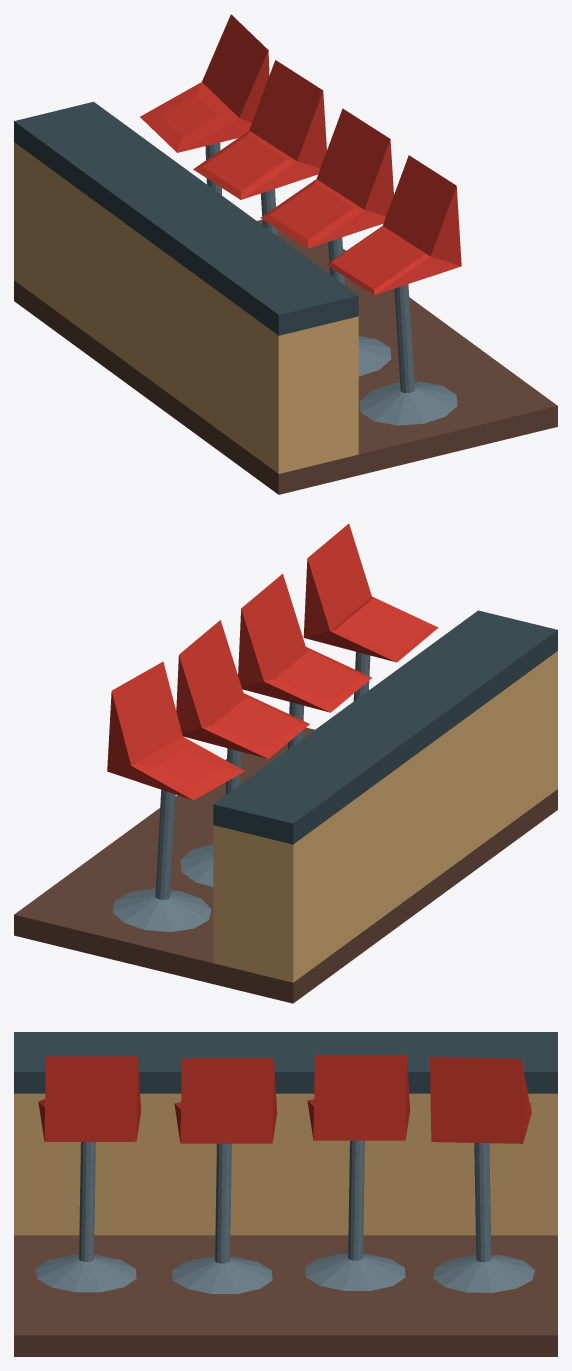
The model's file is barDesk.glb.
3 views of the same model, one above another, from view 1: azimuth 30°, elevation 25°; view 2: azimuth 150°, elevation 25°; view 3: azimuth 270°, elevation 25° (orthographic). The views are drawn at different scales.
Visible parts, largest first — view 1: node_MeshObject-833068864-PolyPaper8.001; view 2: node_MeshObject-833068864-PolyPaper8.001; view 3: node_MeshObject-833068864-PolyPaper8.001.
Part boxes in pixels (left/top/right/bottom): node_MeshObject-833068864-PolyPaper8.001: left=14, top=14, right=557, bottom=494; node_MeshObject-833068864-PolyPaper8.001: left=14, top=523, right=557, bottom=1003; node_MeshObject-833068864-PolyPaper8.001: left=14, top=1032, right=557, bottom=1356.
Size of the model in its own units: 2.69 by 2.31 by 4.42.
